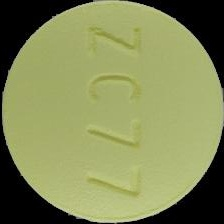68382-116: (0, 0, 224, 224)
